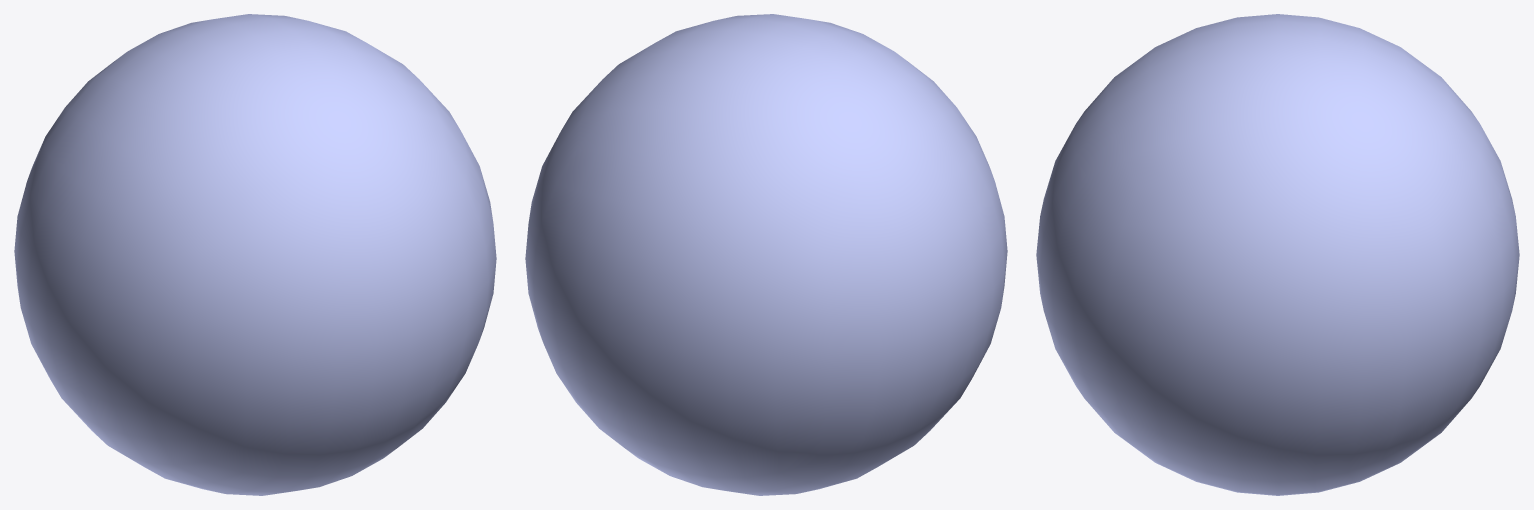
3 renders of one model, left to right at view 1: azimuth 30°, elevation 25°; view 2: azimuth 150°, elevation 25°; view 3: azimuth 270°, elevation 25°, orthographic.
Parts seen in each view (by area): view 1: Sphere_32; view 2: Sphere_32; view 3: Sphere_32.
Boxes of the visible parts, x1,y1,x2,y2 form: Sphere_32: (14,14,496,495); Sphere_32: (525,14,1007,495); Sphere_32: (1036,14,1519,495).
Size of the model in its own units: 3200 by 3200 by 3200.
